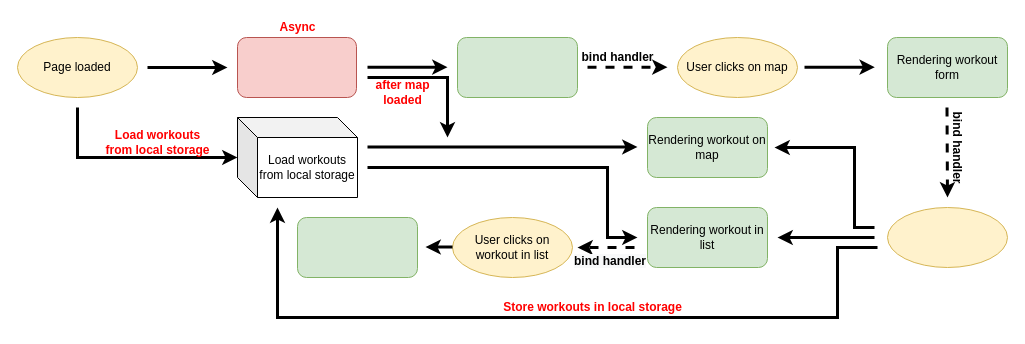
Image size: 1025x344. Some labels were removed from this diagram. Each missing label, with the centre of its shape:
Async getting the current GEO position: the point at 296,67
Move map to workout location: the point at 357,247
Rendering map: the point at 517,67
User submits new workout: the point at 947,237
